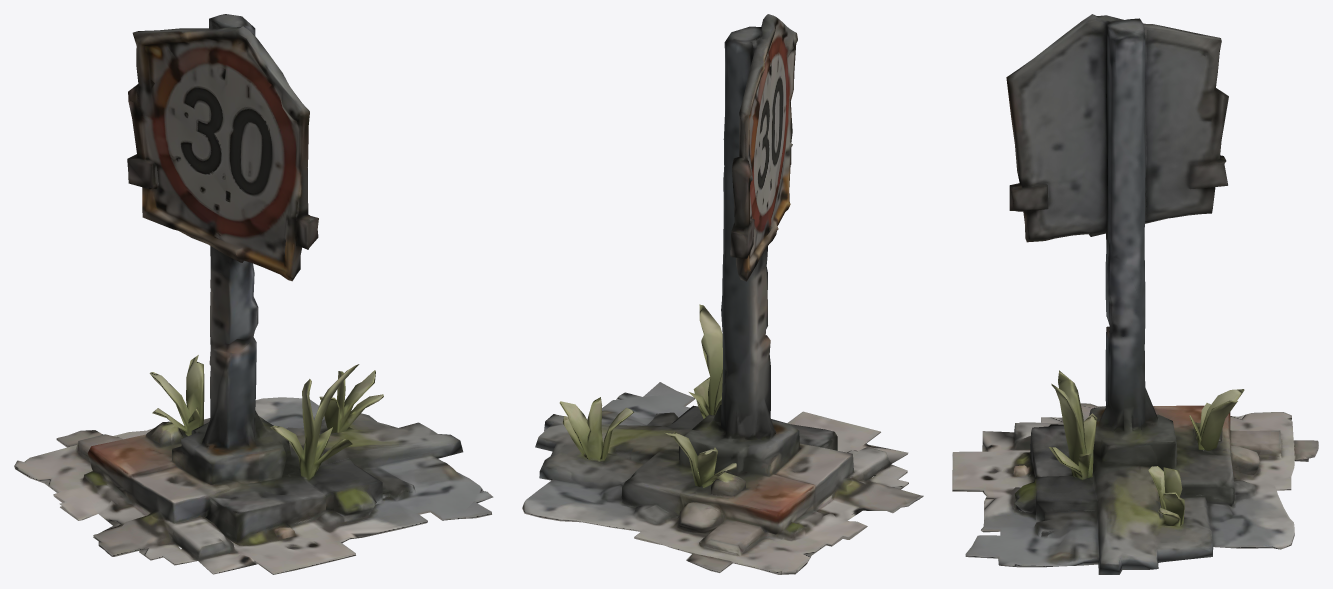
The model's file is SM_Utileria_SenalVelocidadDesgastada_01.fbx.
The picture shows the model from 3 angles, left to right: view 1: azimuth 30°, elevation 25°; view 2: azimuth 150°, elevation 25°; view 3: azimuth 270°, elevation 25°; orthographic projection. The views are drawn at different scales.
Visible parts, largest first — view 1: SM_Utileria_SenalVelocidadDesgastada_01; view 2: SM_Utileria_SenalVelocidadDesgastada_01; view 3: SM_Utileria_SenalVelocidadDesgastada_01.
Boxes of the visible parts, x1,y1,x2,y2 form: SM_Utileria_SenalVelocidadDesgastada_01: (14,14,493,574); SM_Utileria_SenalVelocidadDesgastada_01: (522,14,923,574); SM_Utileria_SenalVelocidadDesgastada_01: (952,14,1318,574).
Size of the model in its own units: 0.7943 by 1 by 0.7197.
Materials: 1 (1 with a texture image).
